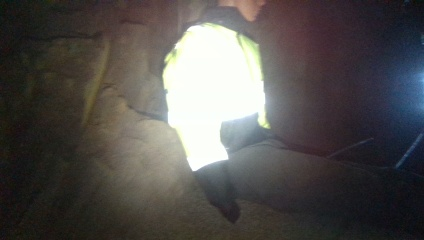manikin: (163, 0, 403, 230)
